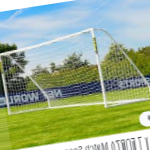goals: (1, 26, 150, 112)
